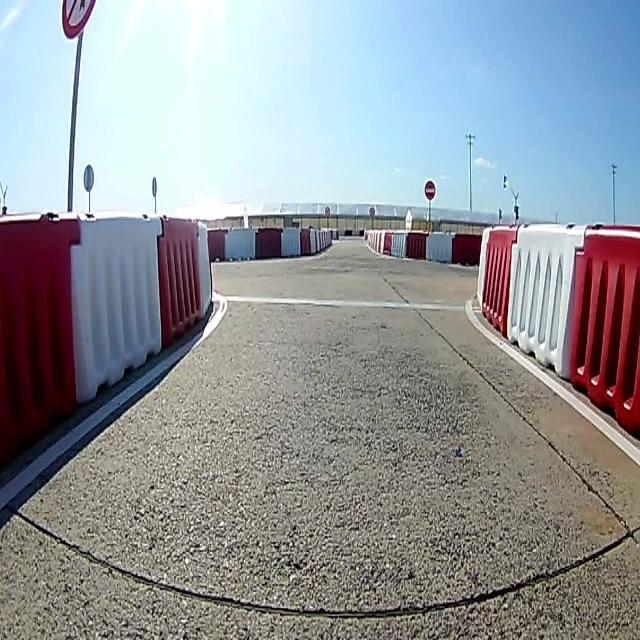girisyok: (424, 179, 436, 201)
